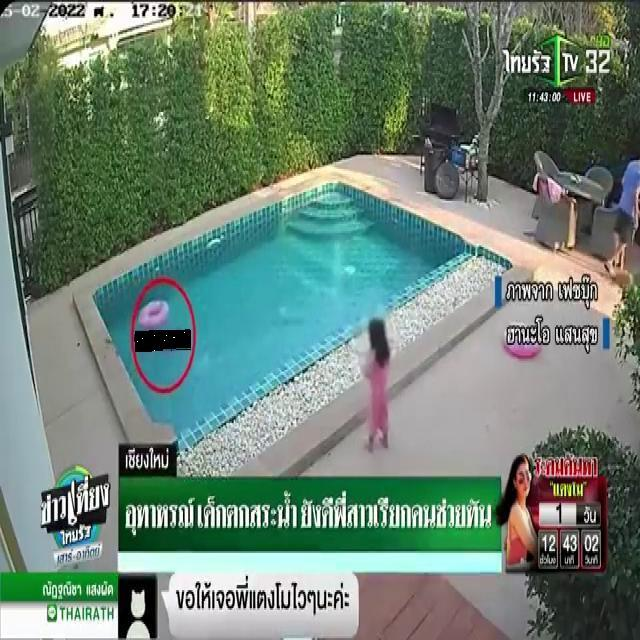Out of Water: (135, 330, 191, 351)
